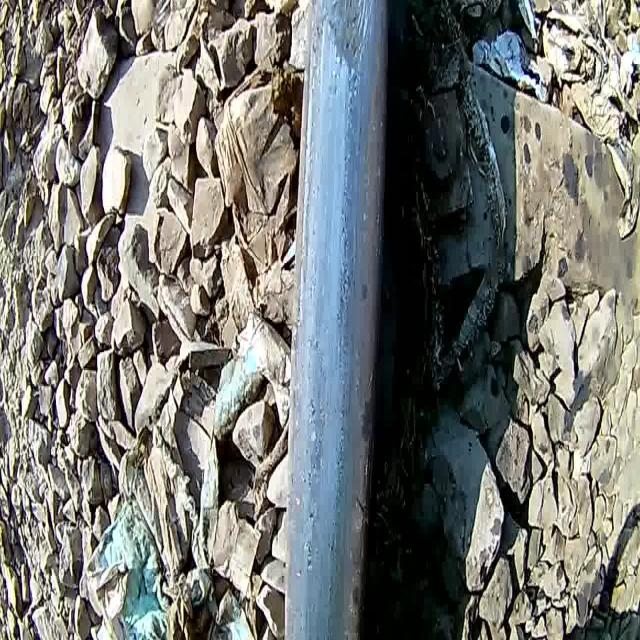Squats: (326, 0, 378, 79)
